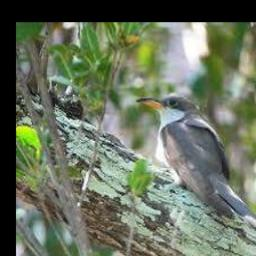Cuckoo: (137, 93, 256, 229)
